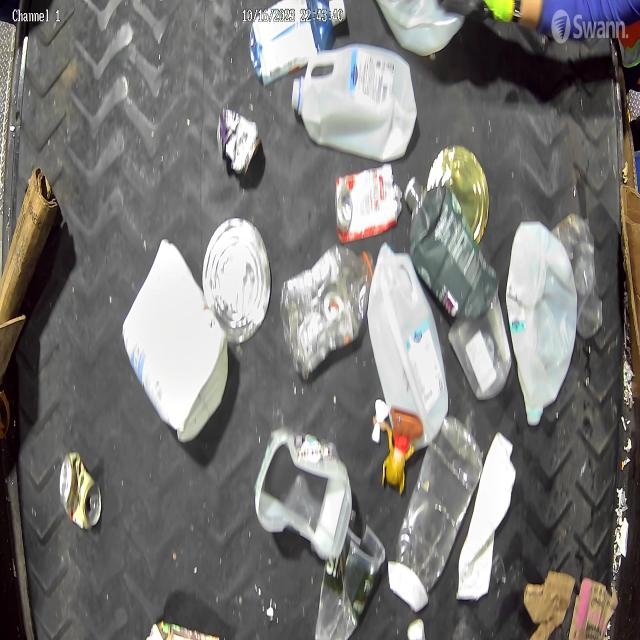can: (431, 146, 490, 245), (57, 450, 101, 529), (217, 106, 260, 177)
milk_jug: (368, 246, 449, 450), (508, 217, 578, 428), (292, 48, 417, 161), (369, 0, 468, 57)
plastic_bottle: (282, 245, 372, 374)
